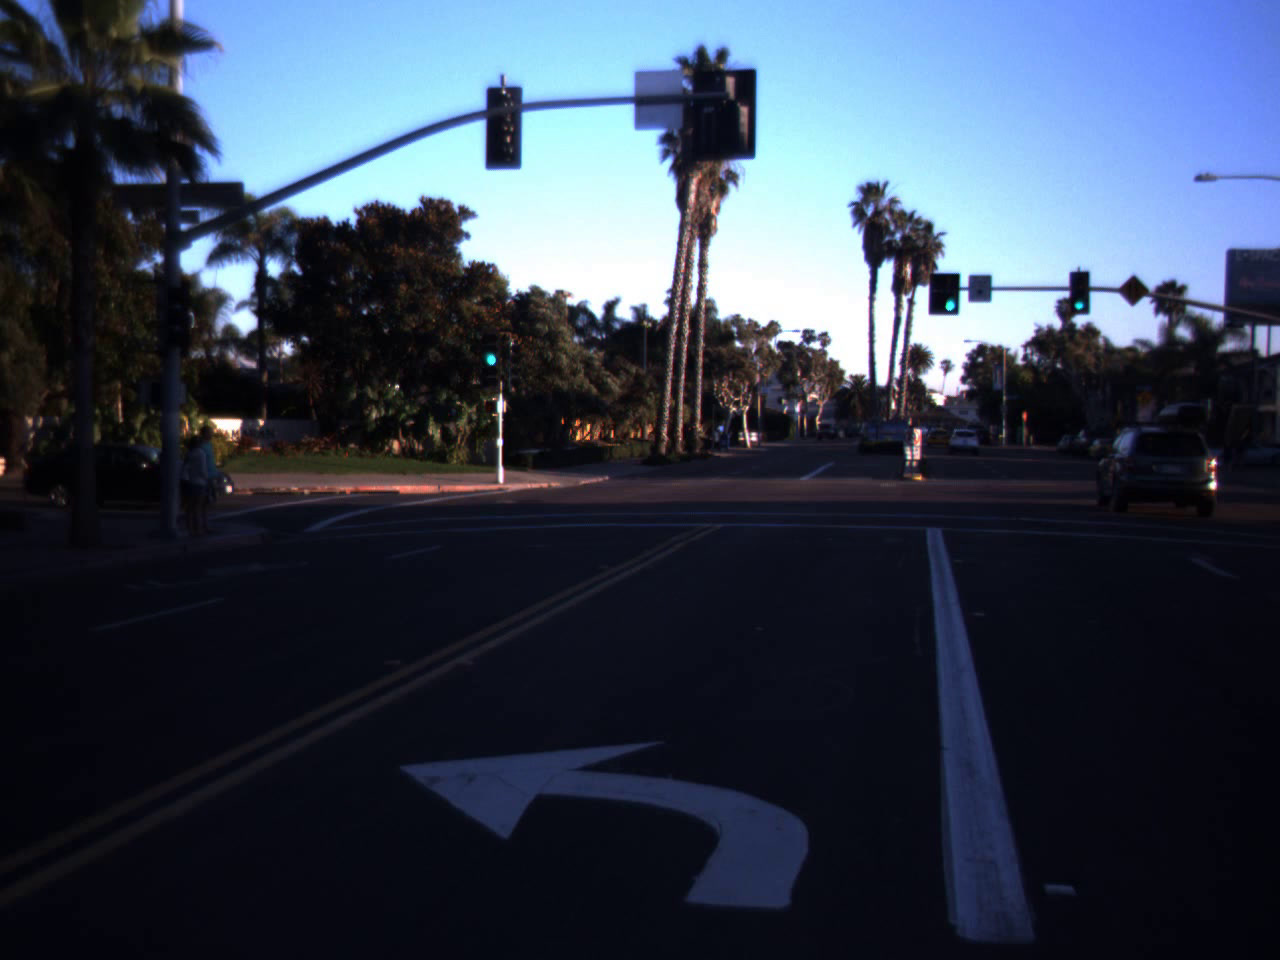go: (938, 269, 962, 314), (481, 323, 502, 368), (1070, 290, 1089, 310)
